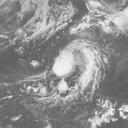cyclone: (52, 38, 104, 79)
